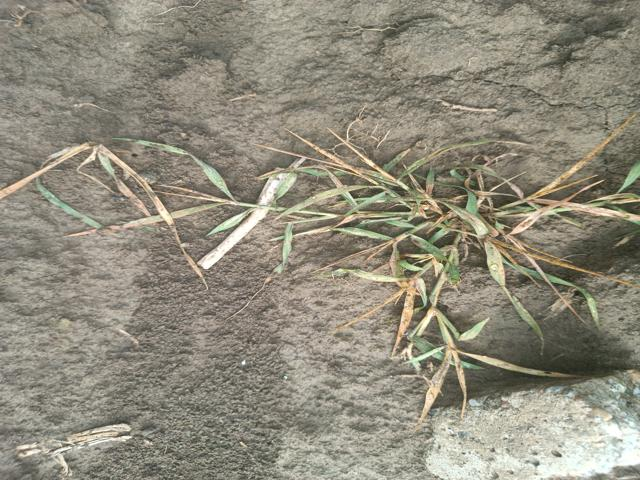bad weed: (29, 103, 616, 391)
